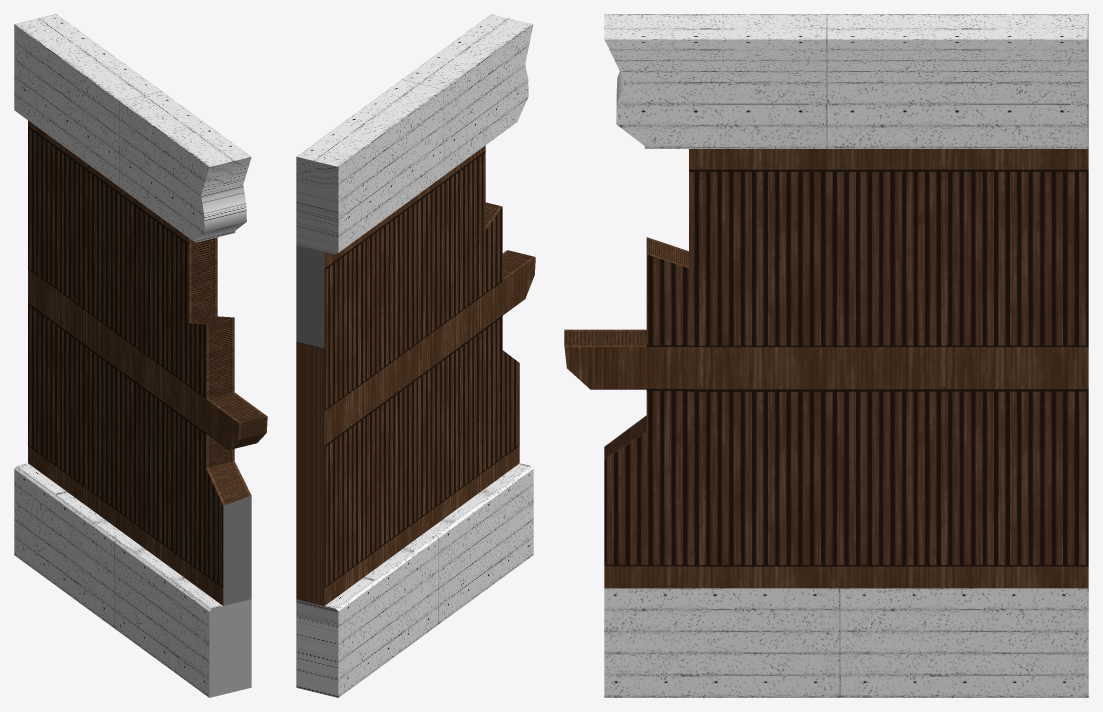
File: Wall_Cardinal_Front_01_transitionfbx.fbx
3 renders of one model, left to right at view 1: azimuth 30°, elevation 25°; view 2: azimuth 150°, elevation 25°; view 3: azimuth 270°, elevation 25°, orthographic. The views are drawn at different scales.
Parts seen in each view (by area): view 1: Wall_Cardinal_Front_01_transitionfbx; view 2: Wall_Cardinal_Front_01_transitionfbx; view 3: Wall_Cardinal_Front_01_transitionfbx.
Part boxes in pixels (left/top/right/bottom): Wall_Cardinal_Front_01_transitionfbx: left=14, top=14, right=267, bottom=697; Wall_Cardinal_Front_01_transitionfbx: left=296, top=14, right=535, bottom=697; Wall_Cardinal_Front_01_transitionfbx: left=564, top=14, right=1088, bottom=697.
Bounding box in the file's own units: 0.25 × 3 × 2.17.
